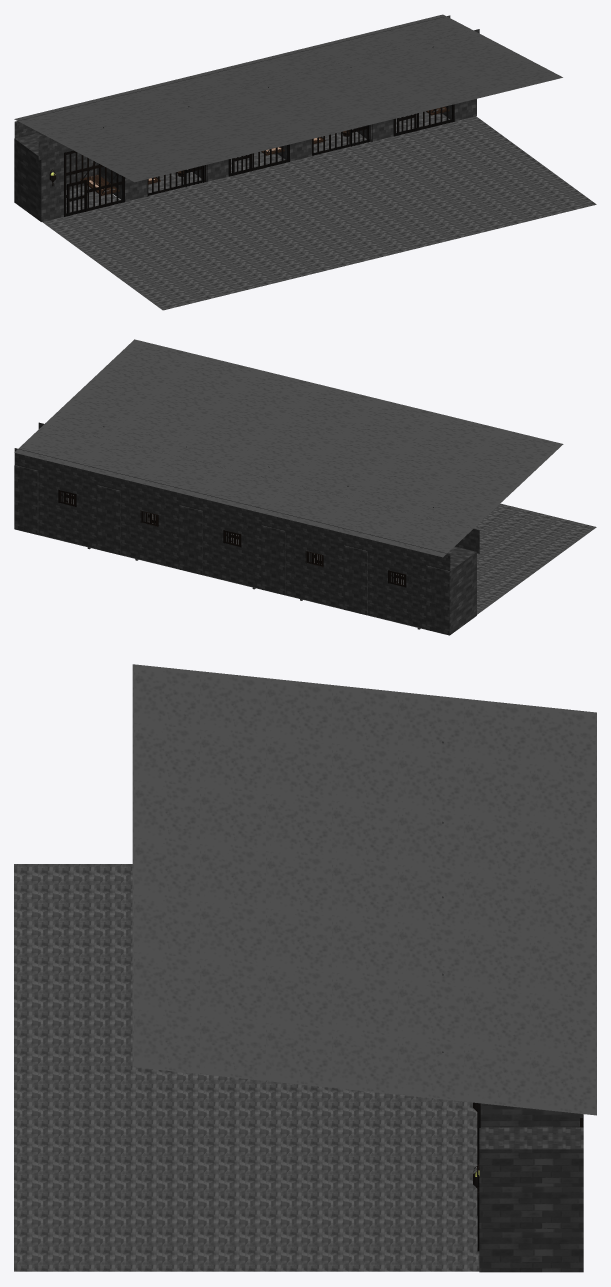
The model's file is 304_bg_prison.fbx.
The picture shows the model from 3 angles, top to bottom: view 1: azimuth 30°, elevation 25°; view 2: azimuth 150°, elevation 25°; view 3: azimuth 270°, elevation 25°; orthographic projection. The views are drawn at different scales.
Parts seen in each view (by area): view 1: ground, ground1, prison_wall10, prison_wall12, prison_wall3, pPlane457, pPlane454, pPlane452, prison_wall5, prison_wall7, prison_wall1, prison_wall2 (+3 smaller); view 2: ground1, ground, prison_wall4, prison_wall11, prison_wall6, prison_wall12, prison_wall, prison_wall10, prison_wall2, prison_wall7, prison_wall3, prison_wall5 (+2 smaller); view 3: ground1, ground, prison_wall7, prison_wall5.
Boxes of the visible parts, <box> form: ground: <box>42,116,596,310</box>; ground1: <box>14,14,562,182</box>; prison_wall10: <box>14,133,63,221</box>; prison_wall12: <box>14,96,119,189</box>; prison_wall3: <box>97,163,147,201</box>; pPlane457: <box>66,185,120,213</box>; pPlane454: <box>148,169,205,194</box>; pPlane452: <box>38,29,479,160</box>; prison_wall5: <box>353,119,393,141</box>; prison_wall7: <box>442,99,476,121</box>; prison_wall1: <box>277,139,311,161</box>; prison_wall2: <box>190,159,228,181</box>; ground1: <box>14,339,563,557</box>; ground: <box>66,493,596,614</box>; prison_wall4: <box>262,508,367,609</box>; prison_wall11: <box>14,448,120,548</box>; prison_wall6: <box>97,468,202,568</box>; prison_wall12: <box>344,531,450,629</box>; prison_wall: <box>180,489,261,588</box>; prison_wall10: <box>426,546,476,635</box>; prison_wall2: <box>261,525,311,595</box>; prison_wall7: <box>14,465,63,534</box>; prison_wall3: <box>343,545,393,615</box>; prison_wall5: <box>97,485,147,554</box>; ground1: <box>132,664,596,1115</box>; ground: <box>14,864,479,1271</box>; prison_wall7: <box>479,1127,583,1272</box>; prison_wall5: <box>480,1103,583,1127</box>.
Size of the model in its own units: 1876 by 450 by 1116.
